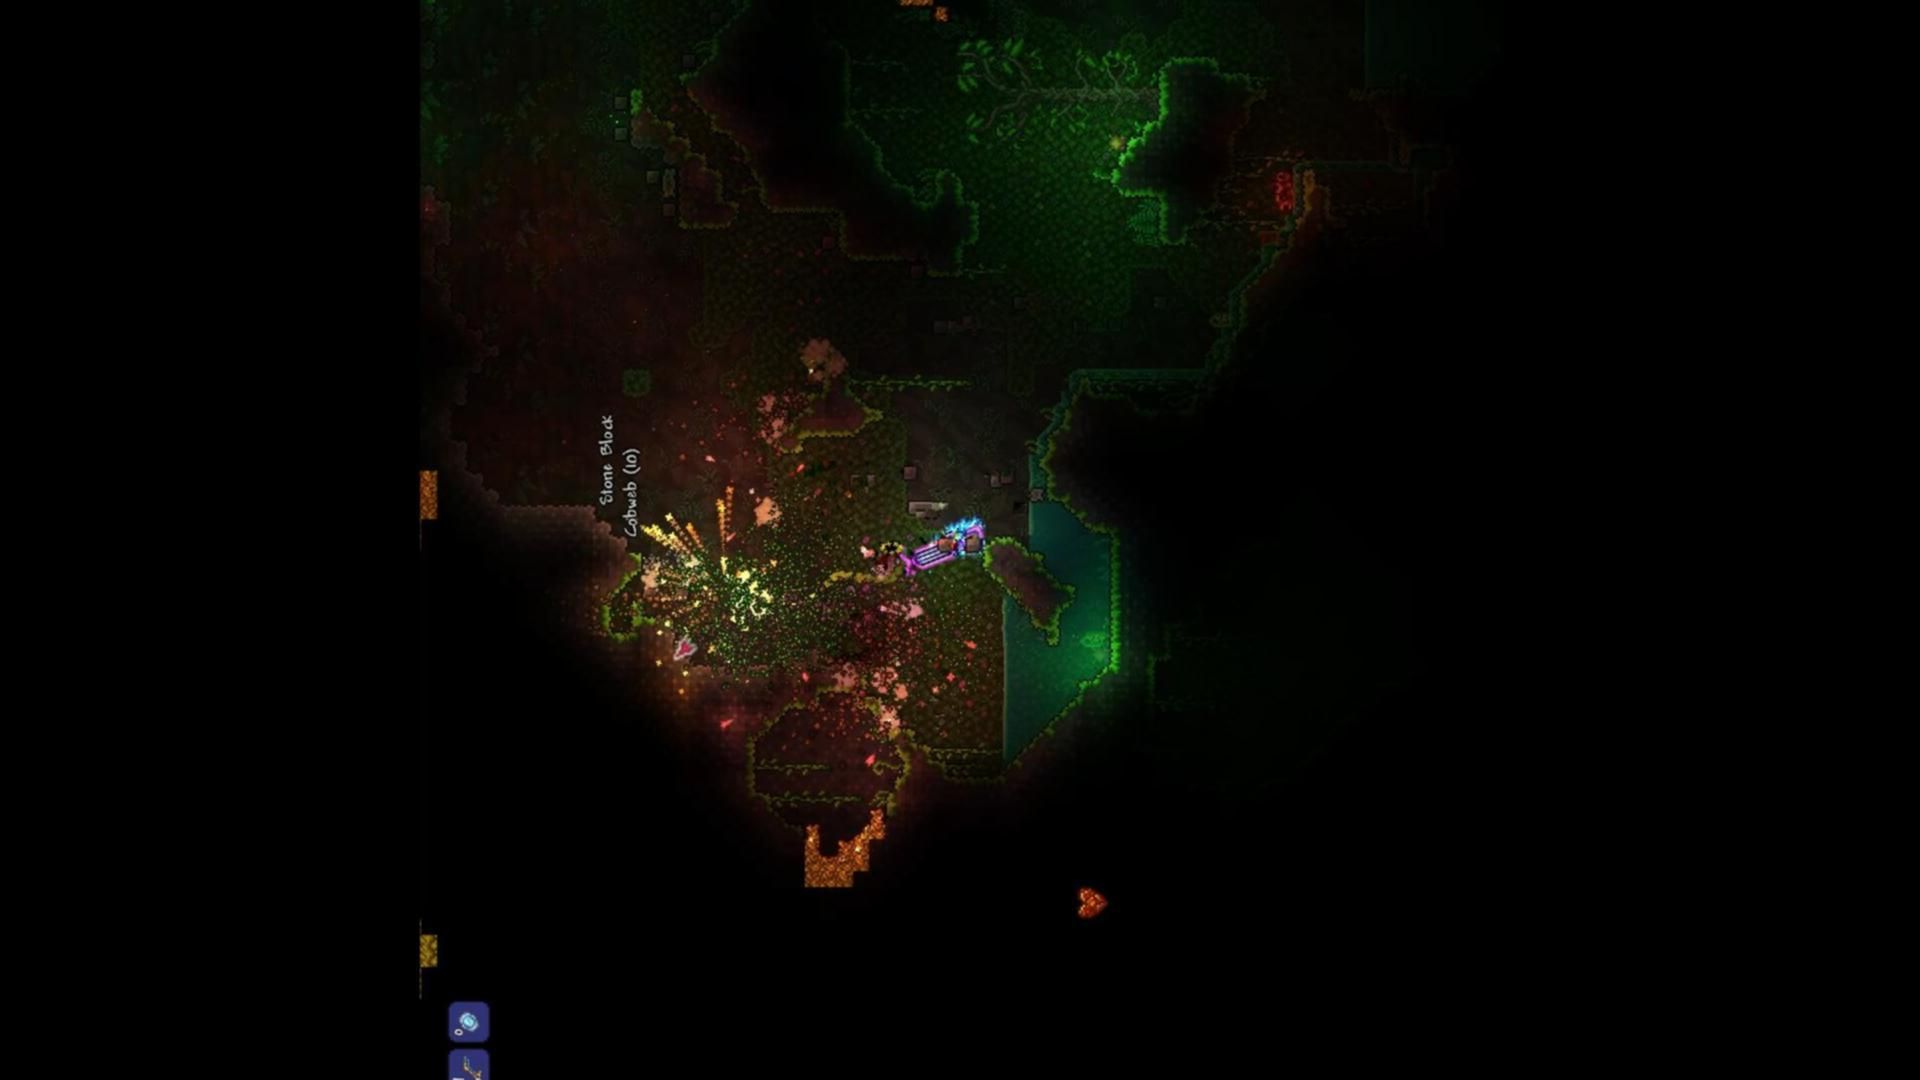lifeC: (1072, 880, 1113, 924)
